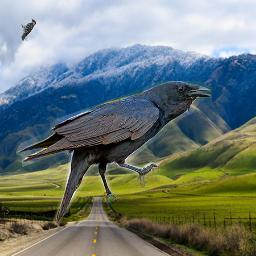Crow: (16, 81, 212, 224)
Woodpecker: (21, 17, 36, 41)
